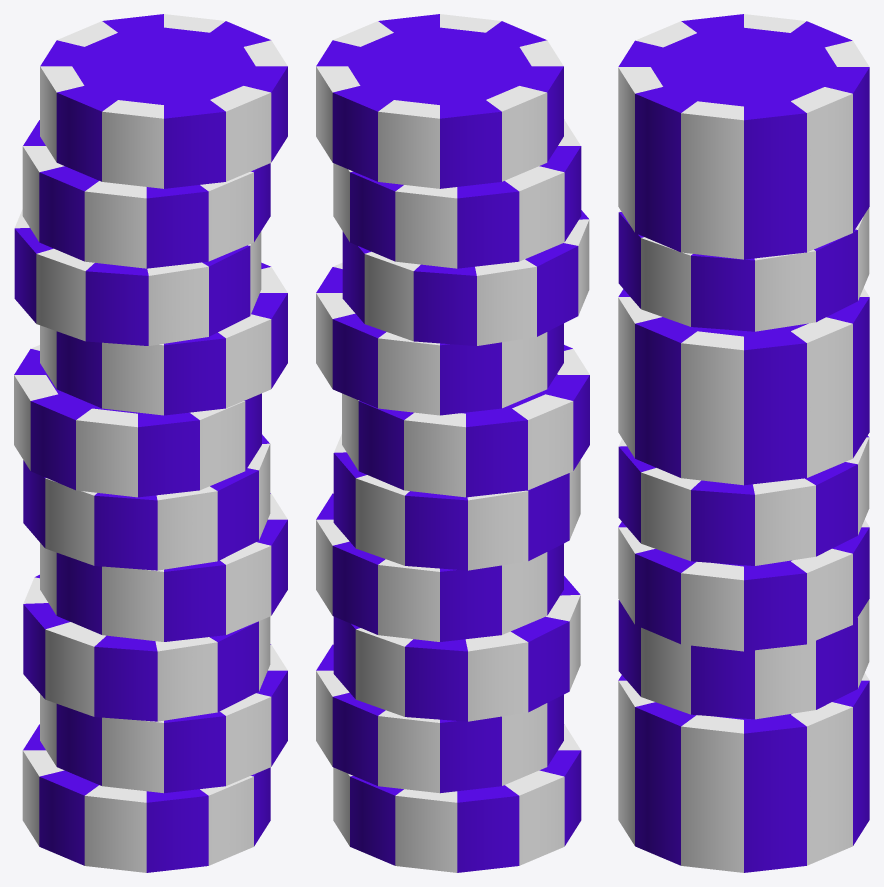
The model's file is Poker Chip Purple Large Stack.FBX.
The picture shows the model from 3 angles, left to right: view 1: azimuth 30°, elevation 25°; view 2: azimuth 150°, elevation 25°; view 3: azimuth 270°, elevation 25°; orthographic projection.
Parts seen in each view (by area): view 1: Poker Chip Purple009, Poker Chip Purple005, Poker Chip Purple Large Stack, Poker Chip Purple008, Poker Chip Purple002, Poker Chip Purple007, Poker Chip Purple004, Poker Chip Purple006, Poker Chip Purple001, Poker Chip Purple003; view 2: Poker Chip Purple009, Poker Chip Purple005, Poker Chip Purple Large Stack, Poker Chip Purple008, Poker Chip Purple002, Poker Chip Purple007, Poker Chip Purple004, Poker Chip Purple006, Poker Chip Purple003, Poker Chip Purple001; view 3: Poker Chip Purple009, Poker Chip Purple006, Poker Chip Purple001, Poker Chip Purple003, Poker Chip Purple004, Poker Chip Purple007, Poker Chip Purple002, Poker Chip Purple Large Stack, Poker Chip Purple008, Poker Chip Purple005.
Boxes of the visible parts, <box> form: Poker Chip Purple009: <box>40,14,287,188</box>; Poker Chip Purple005: <box>14,345,261,497</box>; Poker Chip Purple Large Stack: <box>22,724,270,872</box>; Poker Chip Purple008: <box>22,120,270,268</box>; Poker Chip Purple002: <box>23,574,270,721</box>; Poker Chip Purple007: <box>14,209,261,345</box>; Poker Chip Purple004: <box>23,434,270,570</box>; Poker Chip Purple006: <box>40,262,287,415</box>; Poker Chip Purple001: <box>40,644,287,793</box>; Poker Chip Purple003: <box>40,493,287,641</box>; Poker Chip Purple009: <box>316,14,563,188</box>; Poker Chip Purple005: <box>342,345,589,497</box>; Poker Chip Purple Large Stack: <box>333,724,581,872</box>; Poker Chip Purple008: <box>333,120,581,268</box>; Poker Chip Purple002: <box>333,576,580,721</box>; Poker Chip Purple007: <box>342,210,589,345</box>; Poker Chip Purple004: <box>333,434,580,570</box>; Poker Chip Purple006: <box>316,262,563,415</box>; Poker Chip Purple003: <box>316,493,563,641</box>; Poker Chip Purple001: <box>316,644,563,793</box>; Poker Chip Purple009: <box>618,14,869,191</box>; Poker Chip Purple006: <box>618,288,869,421</box>; Poker Chip Purple001: <box>618,673,869,804</box>; Poker Chip Purple003: <box>618,519,869,651</box>; Poker Chip Purple004: <box>618,435,869,565</box>; Poker Chip Purple007: <box>618,207,869,331</box>; Poker Chip Purple002: <box>618,599,869,719</box>; Poker Chip Purple Large Stack: <box>618,752,869,872</box>; Poker Chip Purple008: <box>618,139,869,259</box>; Poker Chip Purple005: <box>618,369,869,485</box>.
Size of the model in its own units: 0.0179 by 0.0534 by 0.016.
